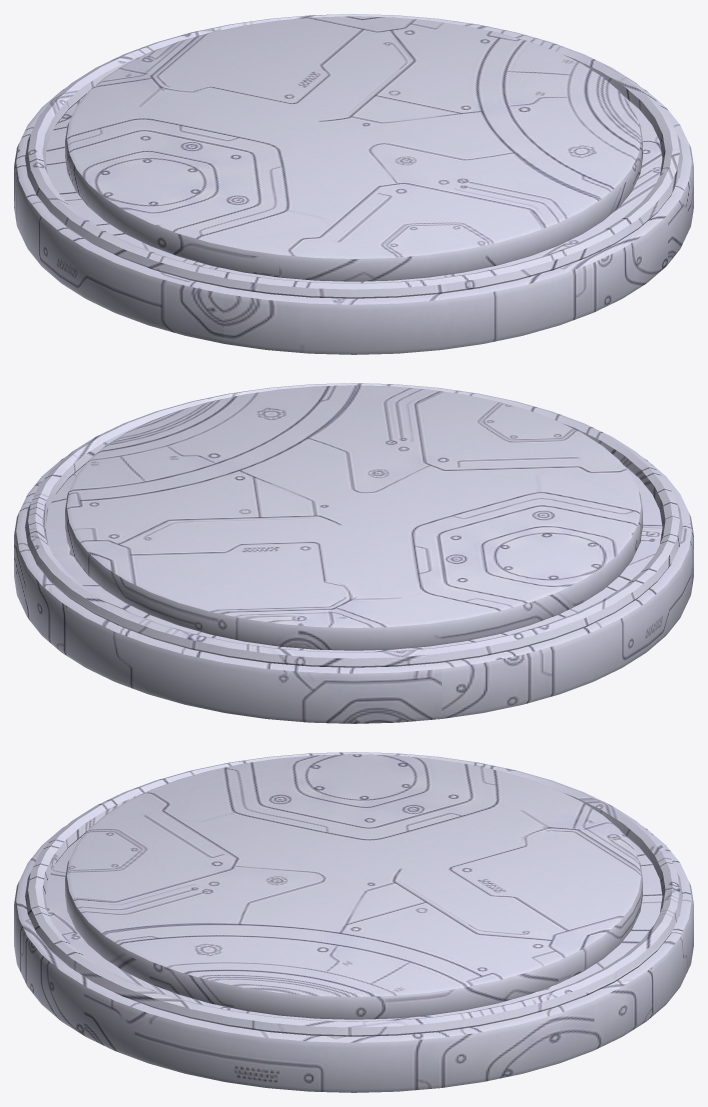
File: platformobj.obj
3 views of the same model, one above another, from view 1: azimuth 30°, elevation 25°; view 2: azimuth 150°, elevation 25°; view 3: azimuth 270°, elevation 25° (orthographic).
Visible parts, largest first — view 1: KP_Platform; view 2: KP_Platform; view 3: KP_Platform.
Part boxes in pixels (x1,y1,x2,y2): KP_Platform: (14, 14, 693, 354); KP_Platform: (14, 383, 693, 723); KP_Platform: (14, 752, 693, 1092).
Bounding box in the file's own units: 8 × 1.01 × 8.
Materials: 1 (1 with a texture image).
